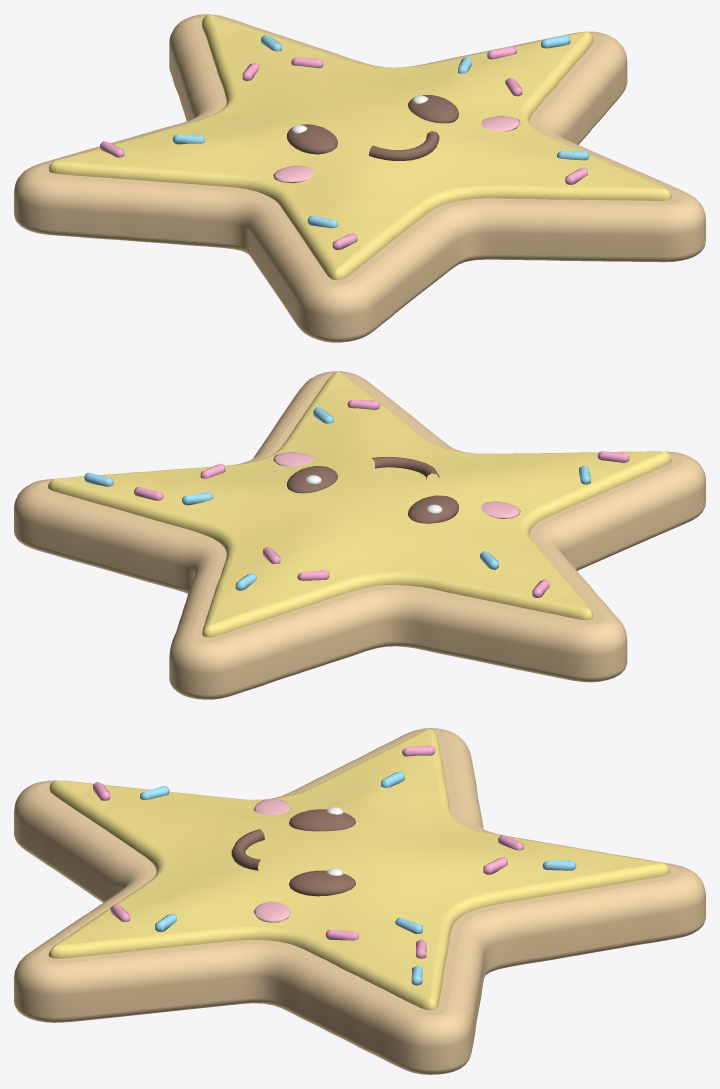
File: StarCookie.glb
The picture shows the model from 3 angles, top to bottom: view 1: azimuth 30°, elevation 25°; view 2: azimuth 150°, elevation 25°; view 3: azimuth 270°, elevation 25°; orthographic projection. The views are drawn at different scales.
Visible parts, largest first — view 1: Icing, Cookie, Face, Sprinkles, Sprinkles2, Cheeks; view 2: Icing, Cookie, Face, Sprinkles, Sprinkles2, Cheeks; view 3: Icing, Cookie, Face, Sprinkles, Sprinkles2, Cheeks.
Boxes of the visible parts, x1=… form: Icing: x1=49, y1=14, x2=671, y2=280; Cookie: x1=14, y1=14, x2=705, y2=342; Face: x1=287, y1=95, x2=458, y2=160; Sprinkles: x1=100, y1=46, x2=587, y2=249; Sprinkles2: x1=172, y1=35, x2=589, y2=228; Cheeks: x1=273, y1=116, x2=520, y2=183; Icing: x1=48, y1=371, x2=671, y2=637; Cookie: x1=14, y1=371, x2=705, y2=699; Face: x1=287, y1=457, x2=458, y2=523; Sprinkles: x1=134, y1=399, x2=629, y2=597; Sprinkles2: x1=84, y1=407, x2=590, y2=590; Cheeks: x1=273, y1=452, x2=520, y2=518; Icing: x1=48, y1=729, x2=669, y2=1010; Cookie: x1=14, y1=728, x2=705, y2=1074; Face: x1=231, y1=809, x2=355, y2=896; Sprinkles: x1=93, y1=745, x2=523, y2=958; Sprinkles2: x1=140, y1=771, x2=576, y2=985; Cheeks: x1=253, y1=799, x2=290, y2=922.
Size of the model in its own units: 8.99 by 1.14 by 8.6.
